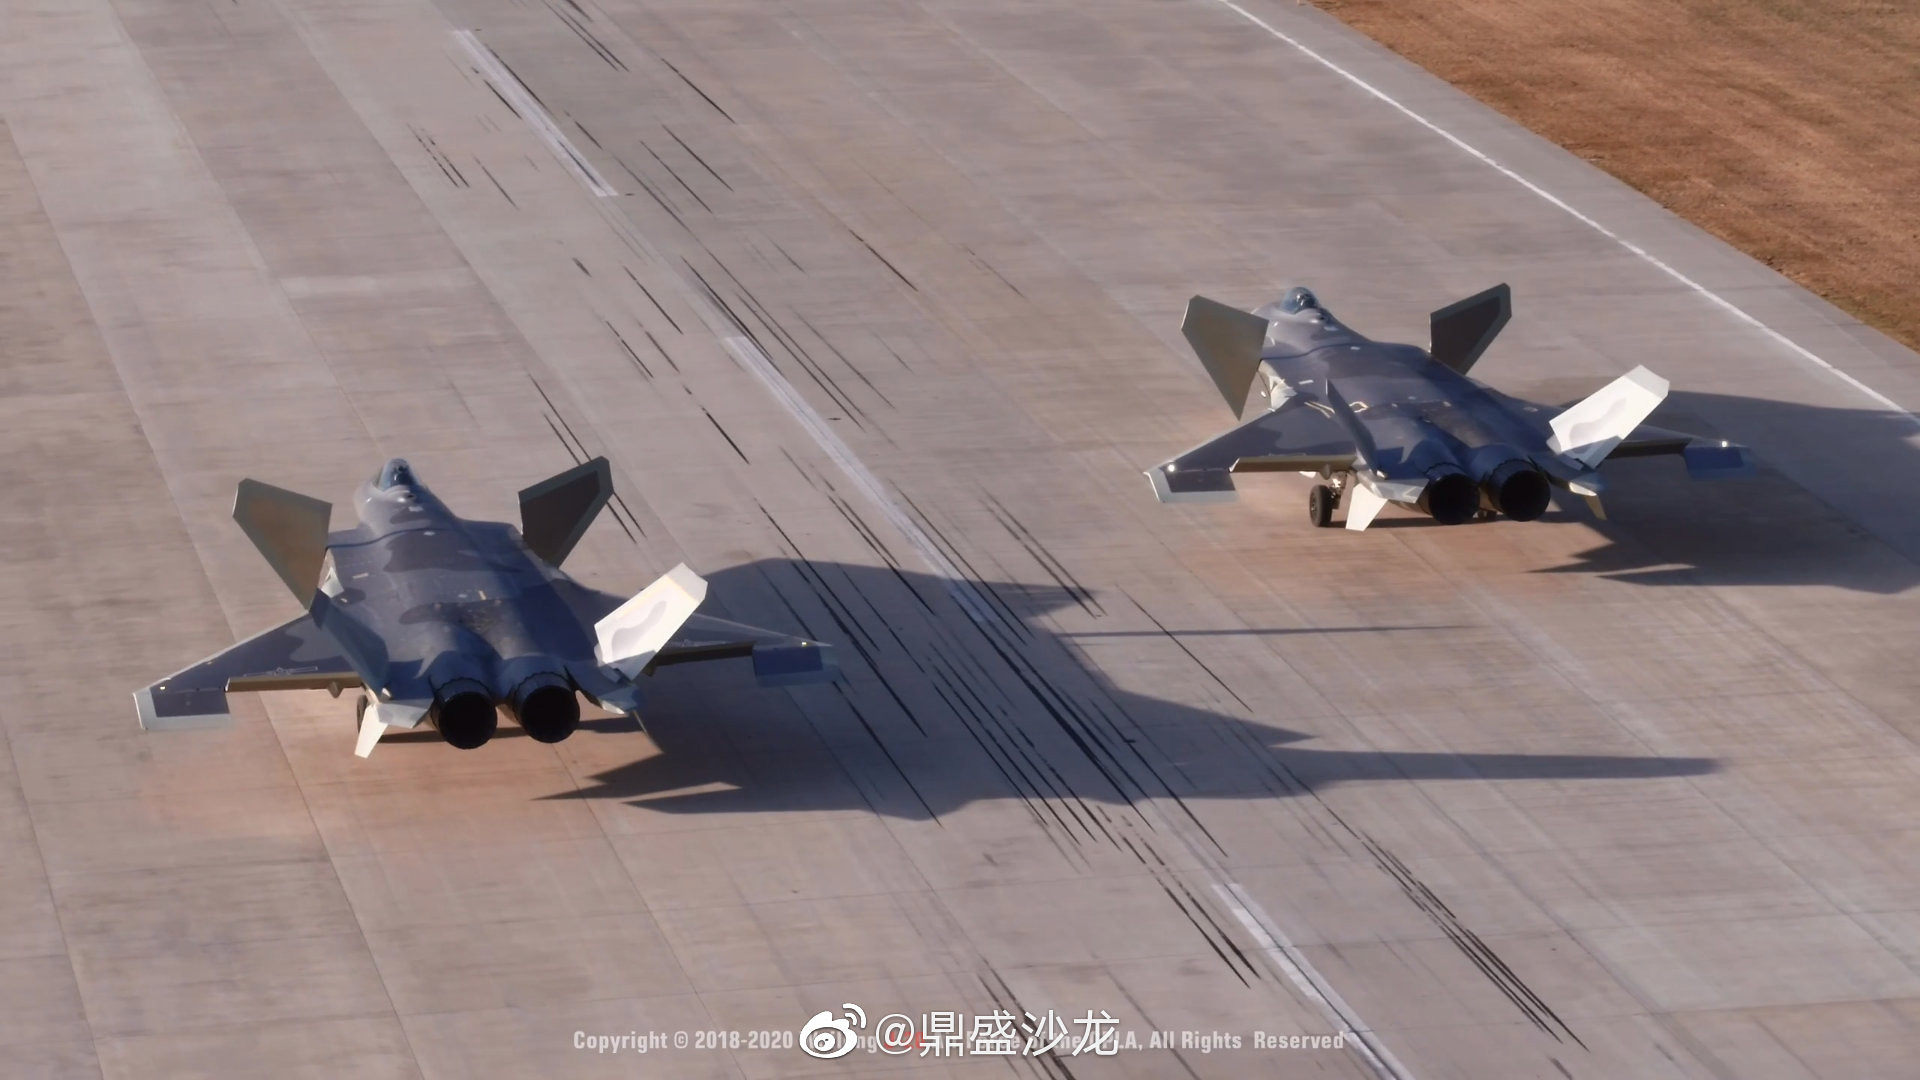J20: (131, 455, 843, 758), (1142, 282, 1754, 531)
